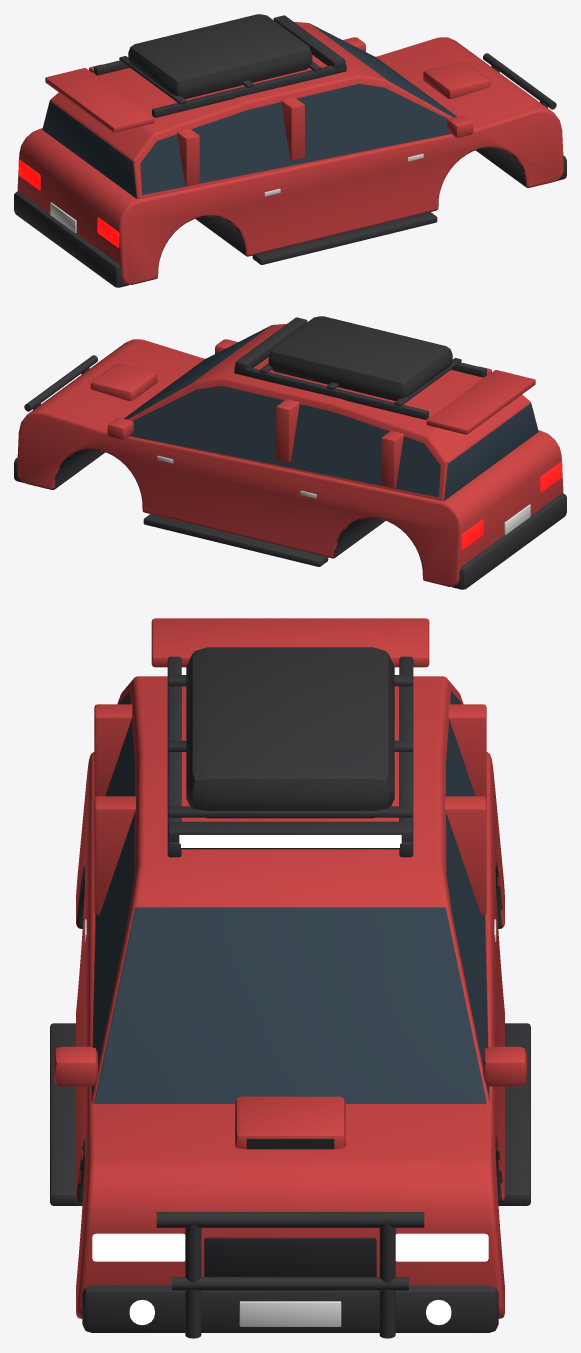
File: suv_crossover.glb
The picture shows the model from 3 angles, top to bottom: view 1: azimuth 30°, elevation 25°; view 2: azimuth 150°, elevation 25°; view 3: azimuth 270°, elevation 25°; orthographic projection. The views are drawn at different scales.
Visible parts, largest first — view 1: carroceria, cabine, bagageiro, asa, parachoque_t, estribo, rack_trilho, tomada, coluna0, coluna1, led_suporte, qm_barra (+5 smaller); view 2: carroceria, cabine, bagageiro, asa, parachoque_t, estribo.001, rack_trilho.001, tomada, coluna0, coluna1, led_suporte, qm_barra (+5 smaller); view 3: cabine, carroceria, bagageiro, parachoque_d, asa, grade, coluna0, coluna1, tomada, qm_barra, led_suporte, estribo (+14 smaller).
Boxes of the visible parts, <box> form: carroceria: <box>17,37,563,284</box>; cabine: <box>42,22,456,199</box>; bagageiro: <box>128,14,312,99</box>; asa: <box>45,68,154,132</box>; parachoque_t: <box>14,191,129,287</box>; estribo: <box>252,212,437,264</box>; rack_trilho: <box>152,64,346,117</box>; tomada: <box>423,61,490,99</box>; coluna0: <box>281,97,304,160</box>; coluna1: <box>89,64,199,186</box>; led_suporte: <box>273,15,345,69</box>; qm_barra: <box>483,53,556,109</box>; carroceria: <box>17,339,563,586</box>; cabine: <box>124,324,538,500</box>; bagageiro: <box>268,316,452,401</box>; asa: <box>426,370,535,434</box>; parachoque_t: <box>451,493,566,589</box>; estribo.001: <box>143,514,328,566</box>; rack_trilho.001: <box>234,366,428,419</box>; tomada: <box>90,363,157,401</box>; coluna0: <box>276,399,299,462</box>; coluna1: <box>381,366,491,488</box>; led_suporte: <box>235,317,307,371</box>; qm_barra: <box>24,355,97,411</box>; cabine: <box>91,676,489,1103</box>; carroceria: <box>76,752,504,1318</box>; bagageiro: <box>186,647,394,818</box>; parachoque_d: <box>82,1285,498,1332</box>; asa: <box>151,618,429,667</box>; grade: <box>204,1237,376,1276</box>; coluna0: <box>94,796,486,915</box>; coluna1: <box>94,704,486,798</box>; tomada: <box>235,1096,345,1148</box>; qm_barra: <box>156,1212,424,1227</box>; led_suporte: <box>167,821,413,849</box>; estribo: <box>50,1023,82,1205</box>.
Size of the model in its own units: 4.61 by 1.65 by 2.08.
